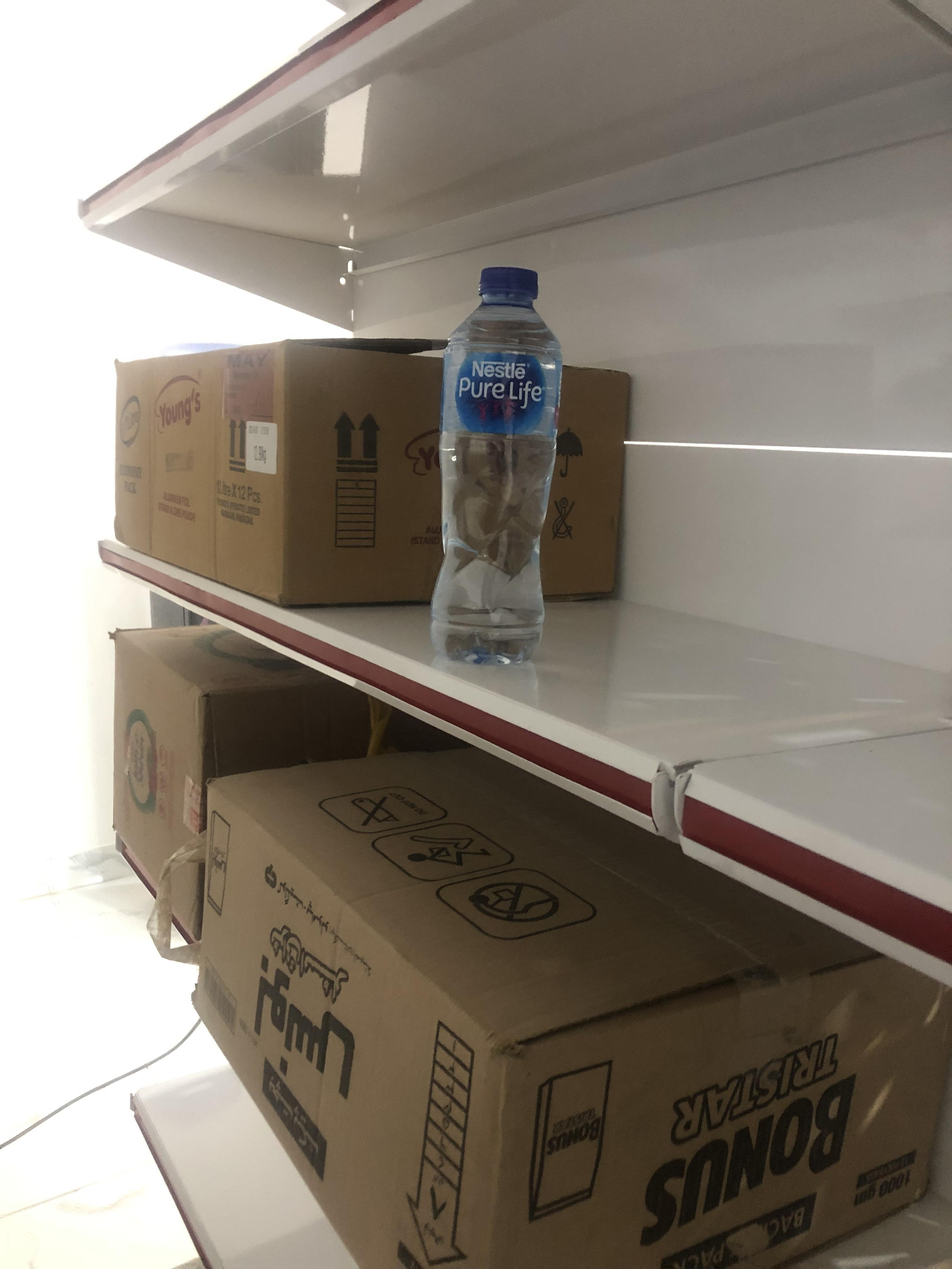bottle-plastic: (428, 260, 571, 671)
